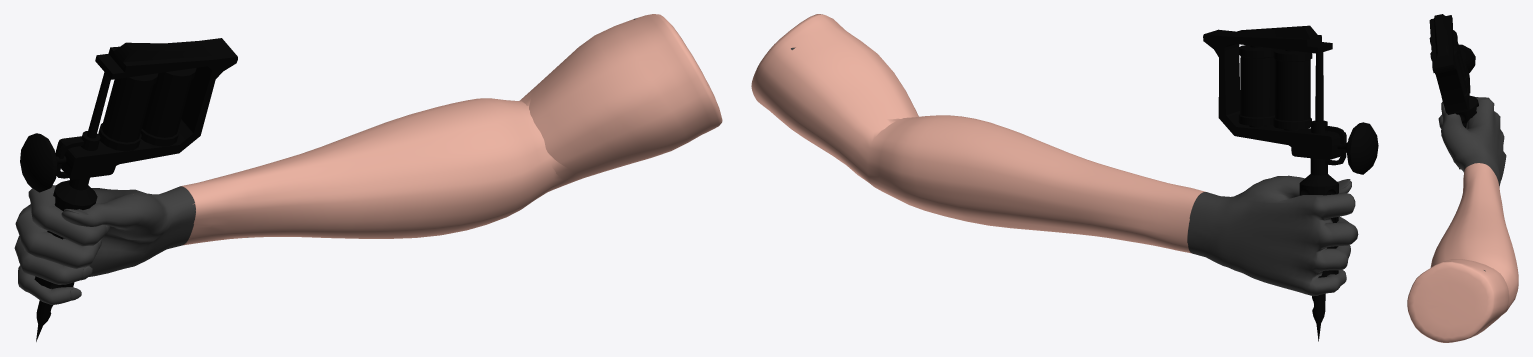
File: npc_Tatgun03.fbx
The picture shows the model from 3 angles, left to right: view 1: azimuth 30°, elevation 25°; view 2: azimuth 150°, elevation 25°; view 3: azimuth 270°, elevation 25°; orthographic projection. The views are drawn at different scales.
Visible parts, largest first — view 1: tatgun03; view 2: tatgun03; view 3: tatgun03.
Part boxes in pixels (x1,y1,x2,y2): tatgun03: (14, 14, 722, 341); tatgun03: (751, 14, 1378, 341); tatgun03: (1407, 14, 1518, 342).
Bounding box in the file's own units: 414 × 183 × 90.94.
2 materials, 1 textured.
